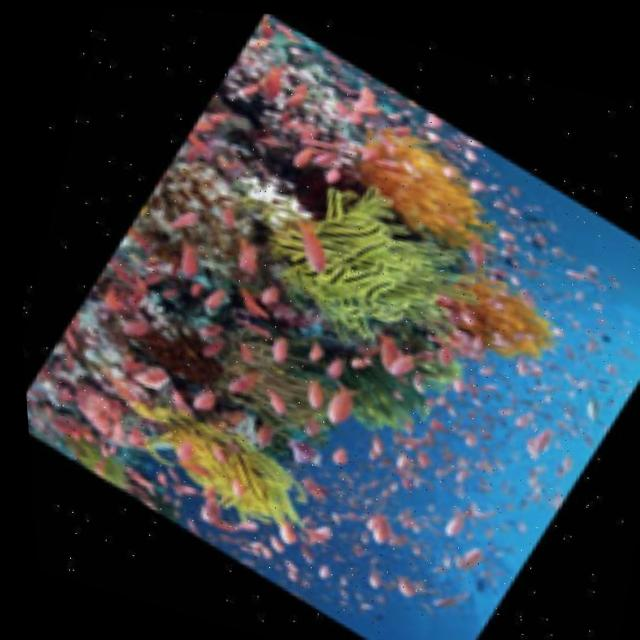Healthy Coral: (189, 299, 489, 488), (238, 148, 483, 353), (14, 259, 223, 474), (316, 79, 533, 250), (111, 385, 321, 545), (402, 233, 595, 389)
